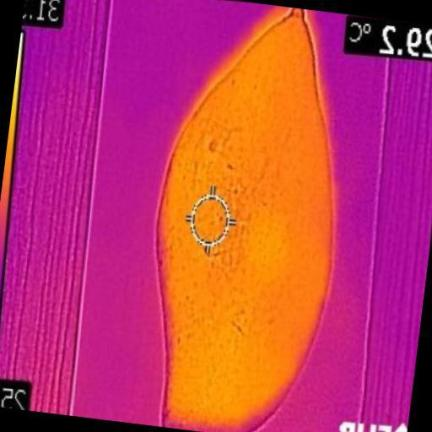mango: (159, 8, 334, 432)
